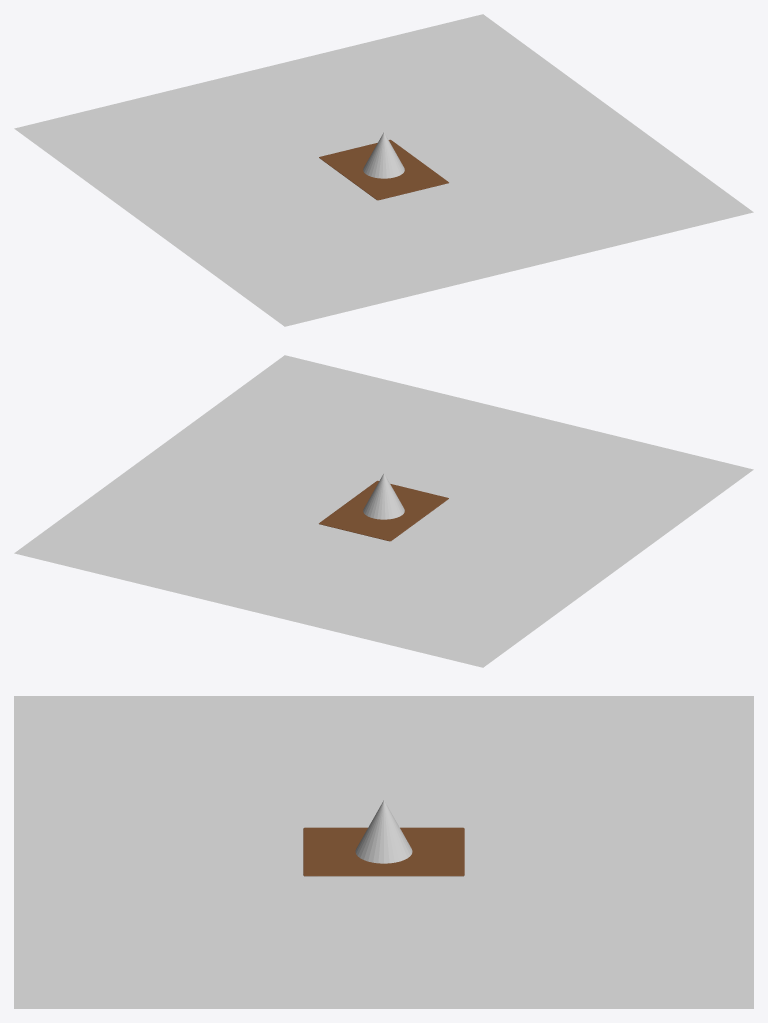
The model's file is Carpet.fbx.
3 renders of one model, top to bottom at view 1: azimuth 30°, elevation 25°; view 2: azimuth 150°, elevation 25°; view 3: azimuth 270°, elevation 25°, orthographic. The views are drawn at different scales.
Visible parts, largest first — view 1: Plane, Cube, CAM FOCUS; view 2: Plane, Cube, CAM FOCUS; view 3: Plane, Cube, CAM FOCUS.
Boxes of the visible parts, box(x1,y1,x2,y2) form: Plane: box(14, 14, 753, 326); Cube: box(319, 139, 448, 200); CAM FOCUS: box(363, 132, 404, 178); Plane: box(14, 355, 753, 667); Cube: box(319, 480, 448, 541); CAM FOCUS: box(363, 473, 404, 519); Plane: box(14, 696, 753, 1008); Cube: box(303, 827, 464, 876); CAM FOCUS: box(355, 800, 412, 863).
Bounding box in the file's own units: 1298 × 200 × 1298.
